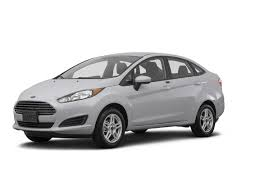Ford: (16, 53, 224, 147)
